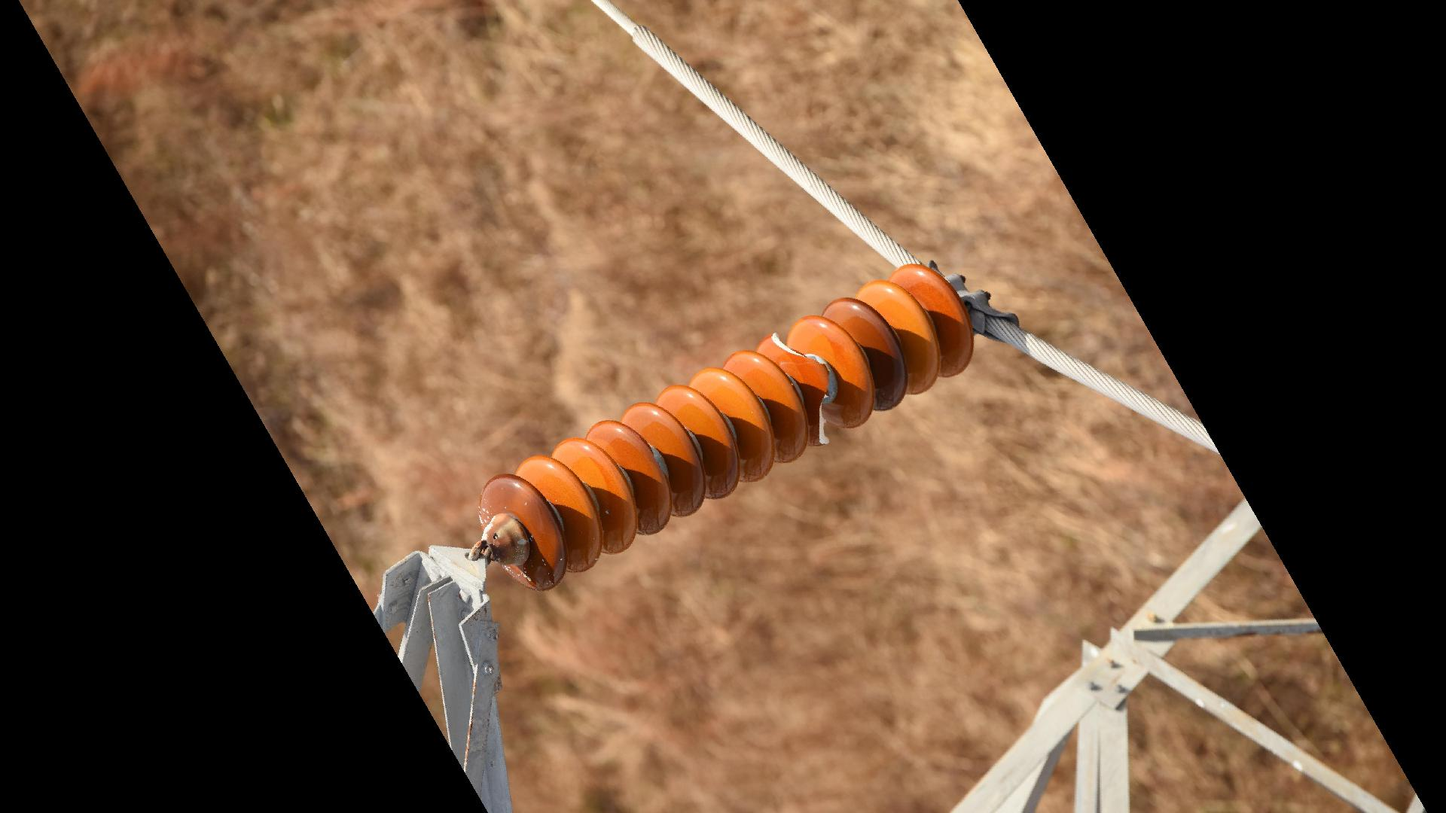insulator: (474, 259, 981, 598)
insulator_breakage: (766, 327, 827, 373), (810, 385, 840, 451)
